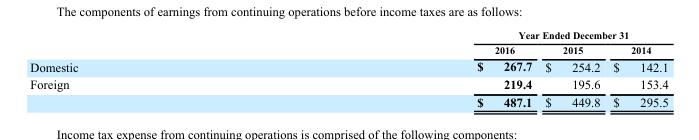table: (29, 29, 667, 108)
table column: (276, 29, 537, 108), (29, 29, 276, 108), (537, 29, 606, 108), (606, 29, 667, 108)
table column header: (29, 29, 667, 57)
table row: (29, 57, 667, 75), (29, 75, 667, 92), (29, 92, 667, 108), (29, 42, 667, 57), (29, 29, 667, 42)
table spanning cell: (276, 29, 667, 42)
